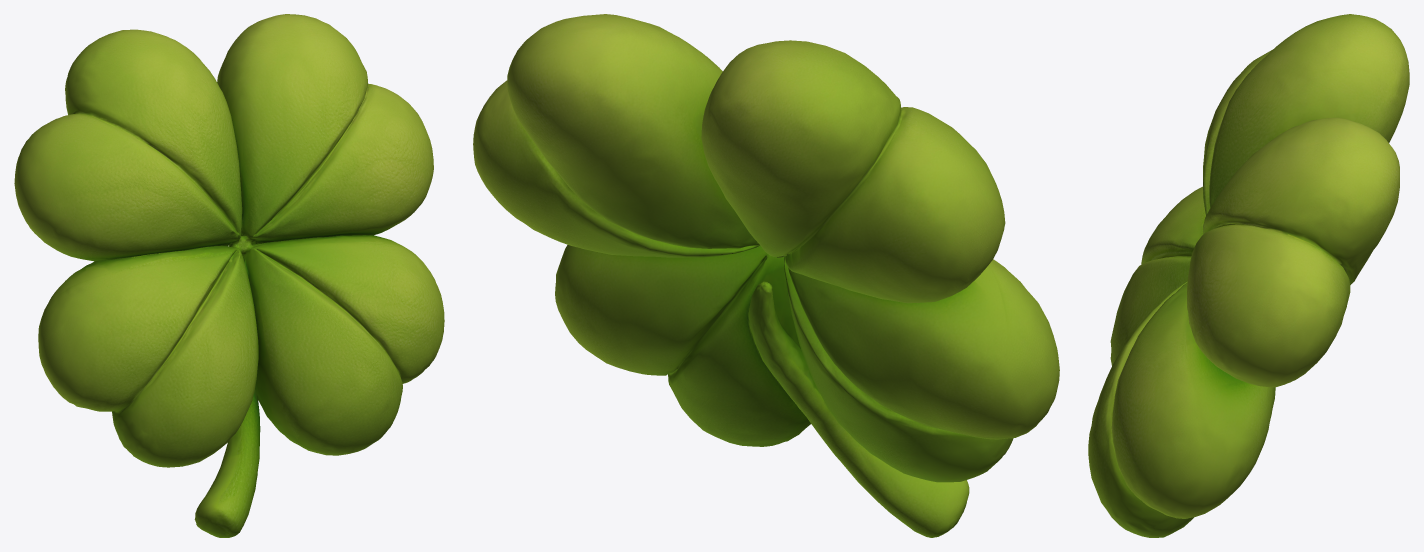
File: mem_ac_fourclover.fbx
3 renders of one model, left to right at view 1: azimuth 30°, elevation 25°; view 2: azimuth 150°, elevation 25°; view 3: azimuth 270°, elevation 25°, orthographic. The views are drawn at different scales.
Parts seen in each view (by area): view 1: tripo_node_0d959609; view 2: tripo_node_0d959609; view 3: tripo_node_0d959609.
Part boxes in pixels (x1=…): tripo_node_0d959609: x1=14, y1=14, x2=444, y2=537; tripo_node_0d959609: x1=473, y1=14, x2=1059, y2=537; tripo_node_0d959609: x1=1088, y1=14, x2=1409, y2=537.
Bounding box in the file's own units: 0.9746 × 0.998 × 0.5918.
